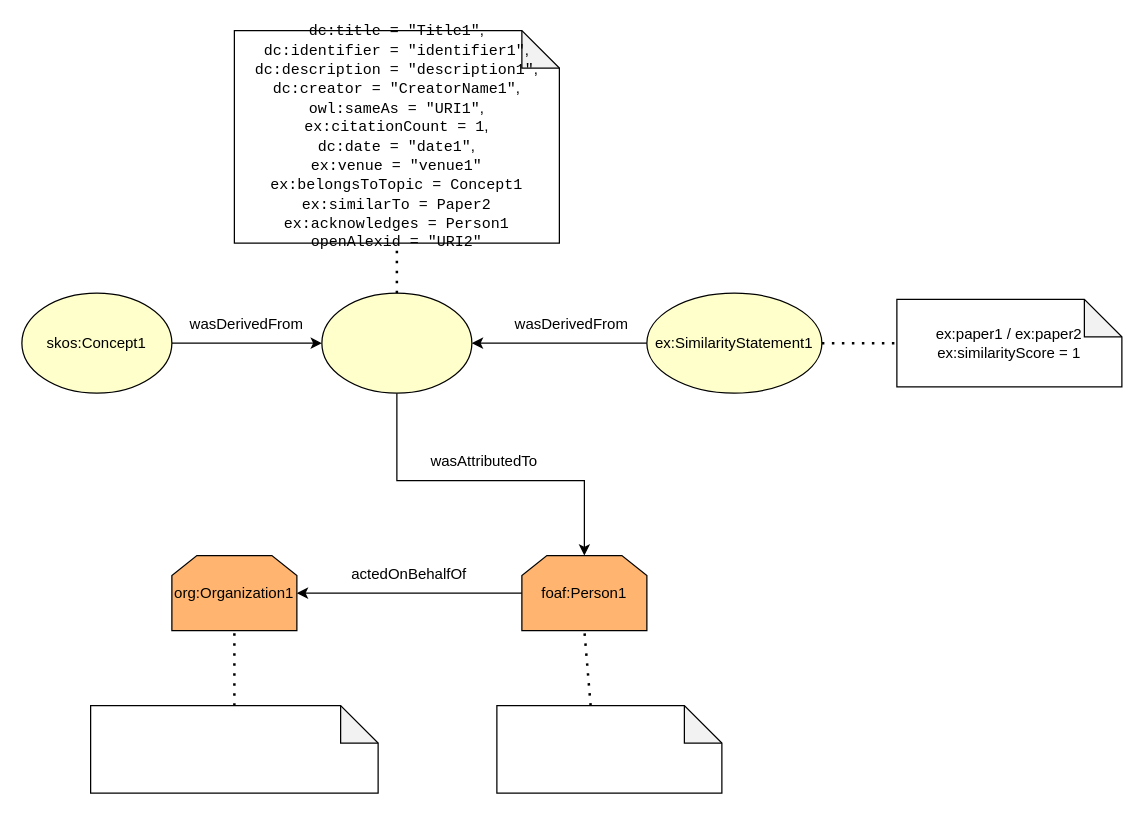
Some shapes in this 1144 by 815 pixel diagram are drawn without their labels. The shapes that lost their labels are listed below. From the top down, each one's centre as x and y in pixels, then its label:
(396,342): ex:Paper1
(233,748): foaf:name = "OrganizationName" ex:country = "Spain" foaf:homepage = "URI3"
(609,748): foaf:name = "LeBron James"
